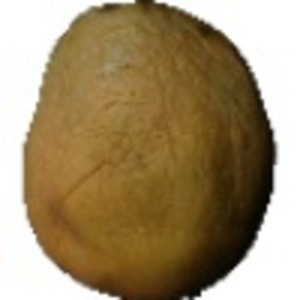mamão: (14, 3, 284, 297)
